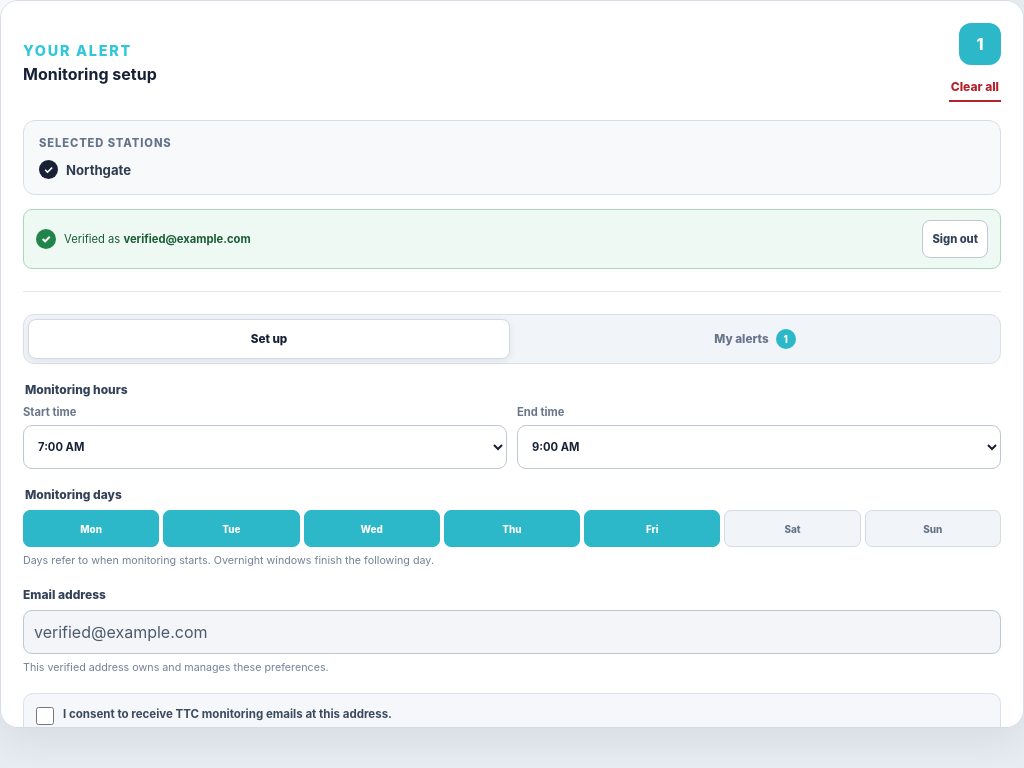
Test case: secure monitoring preferences › shows the saved subscription tab only to authenticated users
Click the tab "My alerts 1" at (755, 339), box [514,319,996,359]
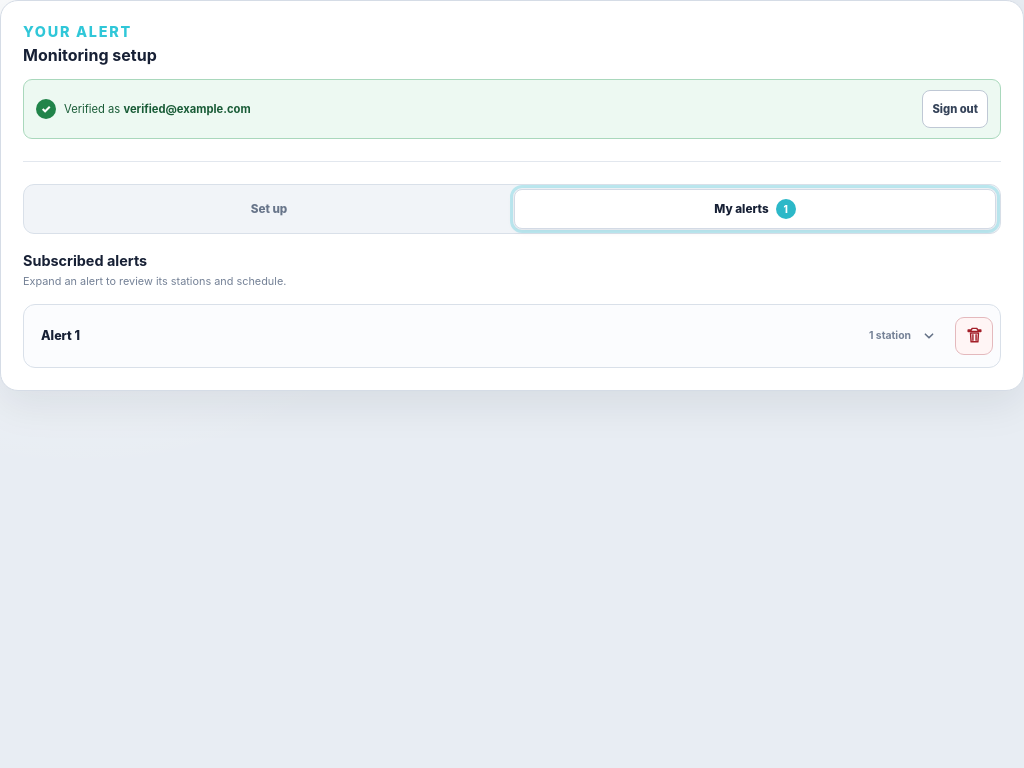
Click the button "Alert 1 1 station" at (58, 336), box [31,312,948,360]
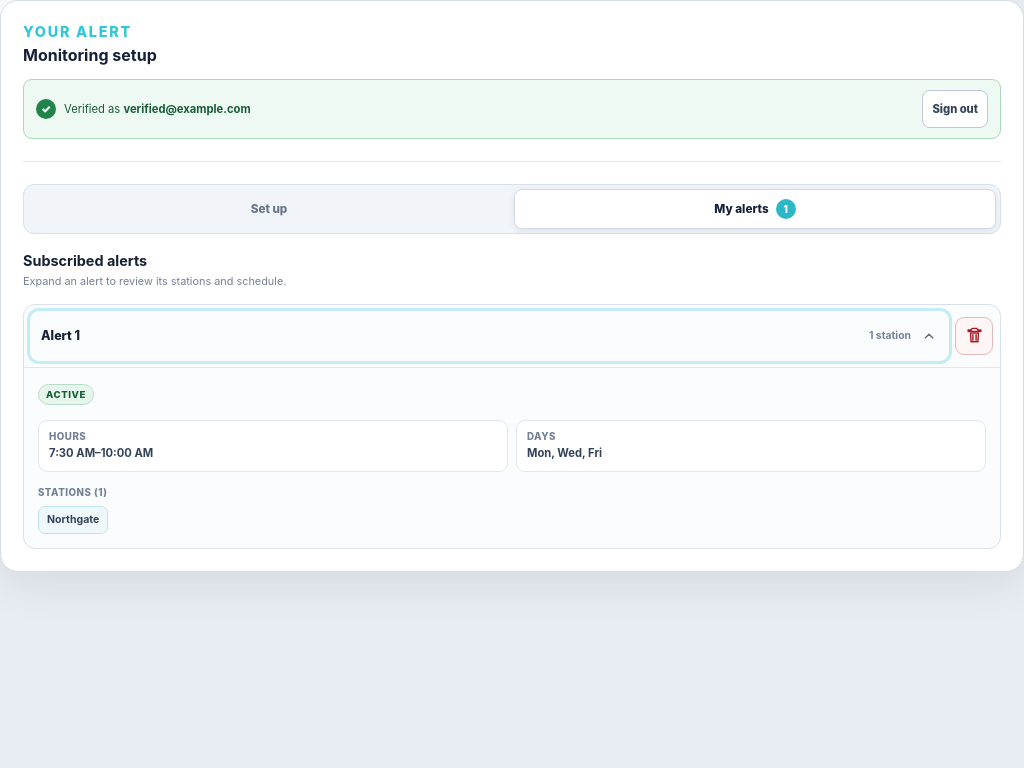
Result: the heading "Subscribed alerts" is shown at [23,252,147,269]
Result: the text "7:30 AM–10:00 AM" is shown at [49,446,153,460]
Result: the text "Mon, Wed, Fri" is shown at [527,446,602,460]
